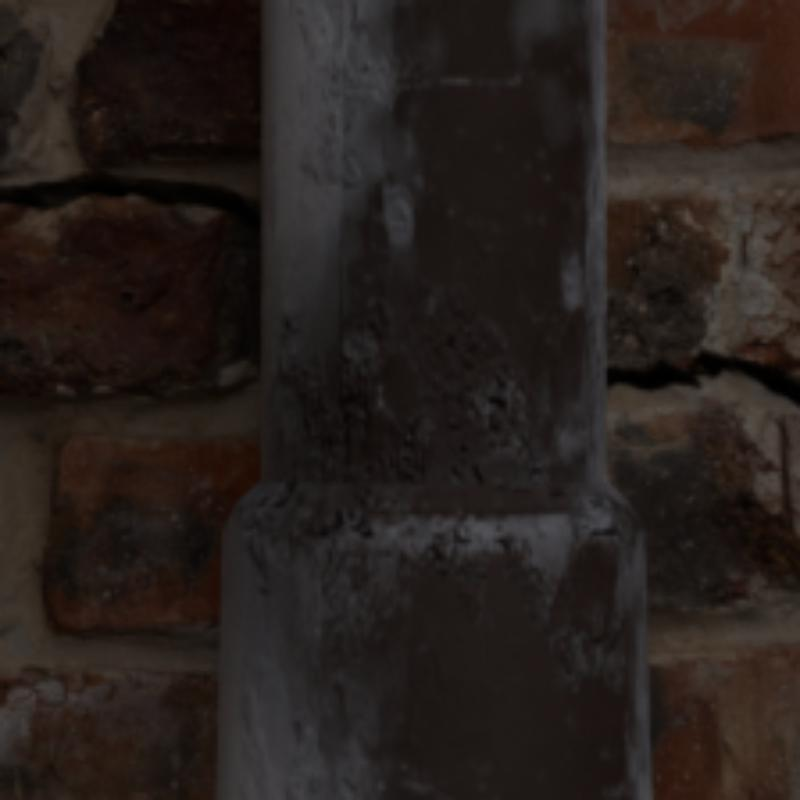crack: (0, 164, 257, 232), (607, 350, 796, 404)
